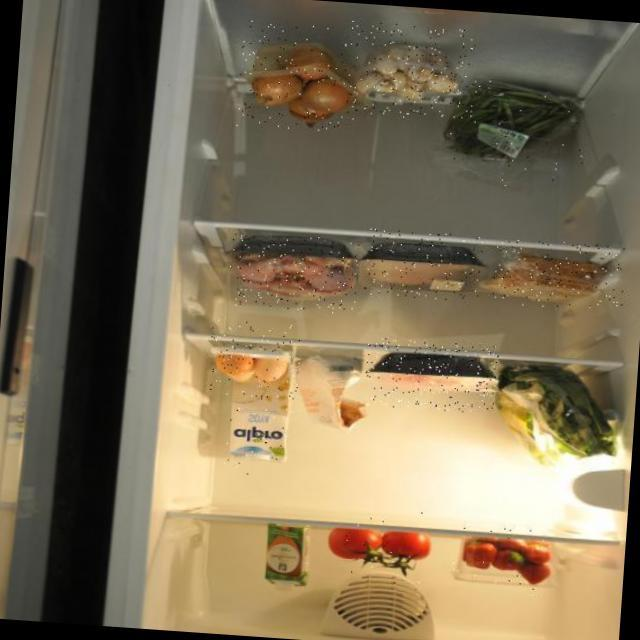Carne pollo: (226, 230, 359, 314)
Champiñones: (345, 20, 479, 122)
Huevos: (206, 317, 301, 398)
